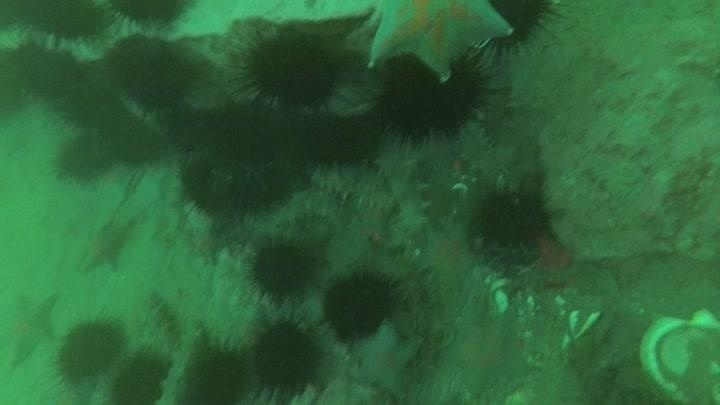echinus: (372, 52, 493, 147), (238, 31, 343, 110), (178, 147, 289, 220), (107, 35, 199, 112), (247, 317, 325, 400), (473, 183, 554, 252), (322, 270, 399, 341), (295, 109, 381, 171), (7, 40, 89, 105), (474, 1, 557, 63), (202, 100, 282, 164), (53, 315, 126, 384), (246, 236, 318, 302), (7, 1, 110, 46), (185, 341, 255, 404), (106, 108, 168, 168), (108, 348, 173, 405), (53, 128, 117, 183), (103, 1, 192, 32)
holothurian: (373, 139, 433, 242), (388, 259, 455, 347), (153, 318, 220, 405), (304, 160, 394, 209), (455, 119, 519, 184), (134, 287, 186, 362)
scallop: (635, 314, 720, 404)
starfish: (364, 1, 516, 82), (437, 308, 538, 400), (351, 320, 424, 401), (1, 289, 62, 368), (339, 200, 406, 269), (417, 222, 481, 290), (516, 226, 580, 292), (75, 216, 133, 275), (187, 219, 229, 266)
